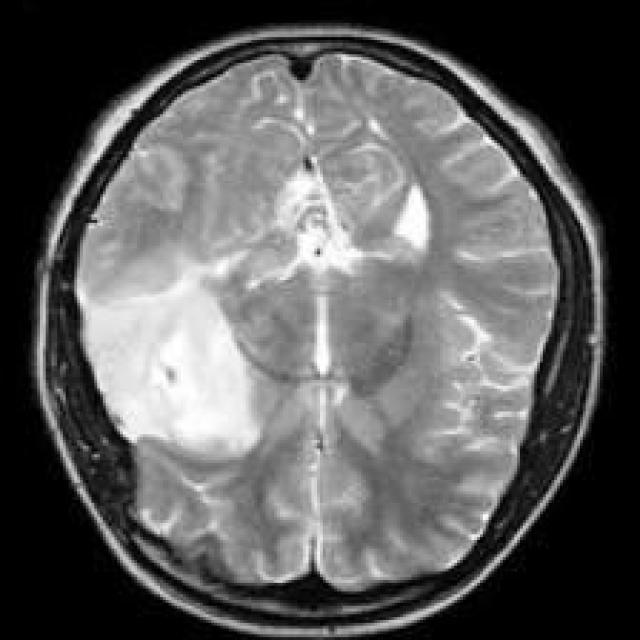Tumor: (89, 280, 260, 459)
